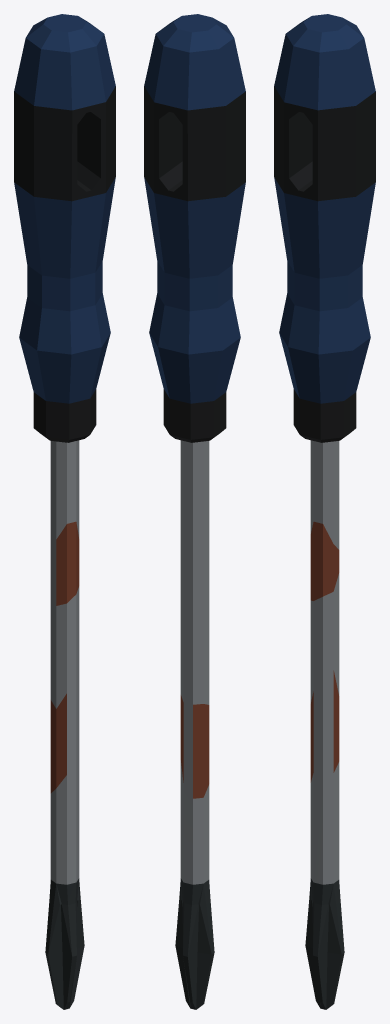
Rendered from SM_Screwdriver_02.glb.
3 views of the same model, side by side, from view 1: azimuth 30°, elevation 25°; view 2: azimuth 150°, elevation 25°; view 3: azimuth 330°, elevation 25° (orthographic).
Parts seen in each view (by area): view 1: SM_Screwdriver_02; view 2: SM_Screwdriver_02; view 3: SM_Screwdriver_02.
Boxes of the visible parts, x1=… form: SM_Screwdriver_02: x1=14, y1=14, x2=115, y2=1009; SM_Screwdriver_02: x1=144, y1=14, x2=245, y2=1009; SM_Screwdriver_02: x1=274, y1=14, x2=375, y2=1009.
Bounding box in the file's own units: 0.0195 × 0.224 × 0.0198.
1 material, 1 textured.
